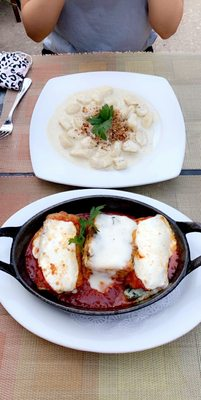sandwich: (0, 78, 33, 140)
sushi: (1, 192, 197, 315)
